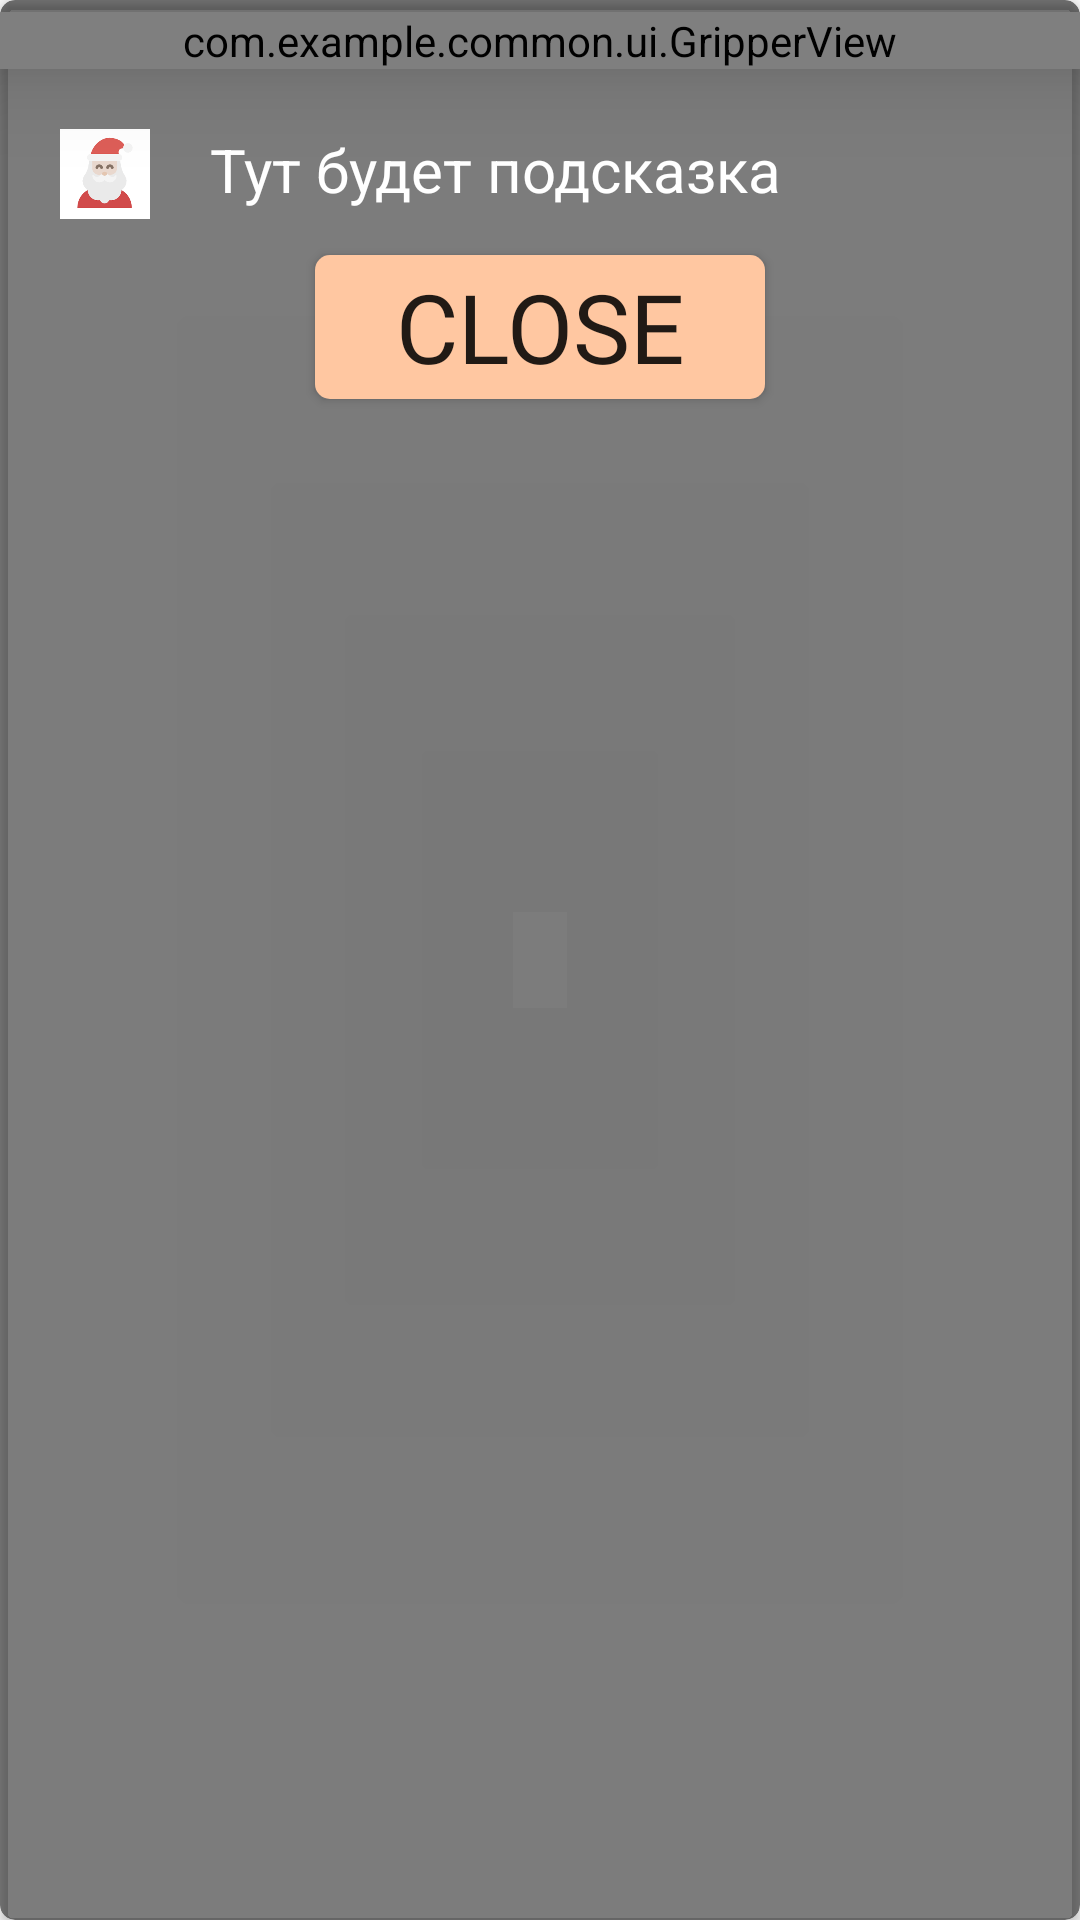

Where icons sit on this 1080px×1920px app screen, as (x1, y1, x2, y2):
santa: (60, 129, 150, 219)
